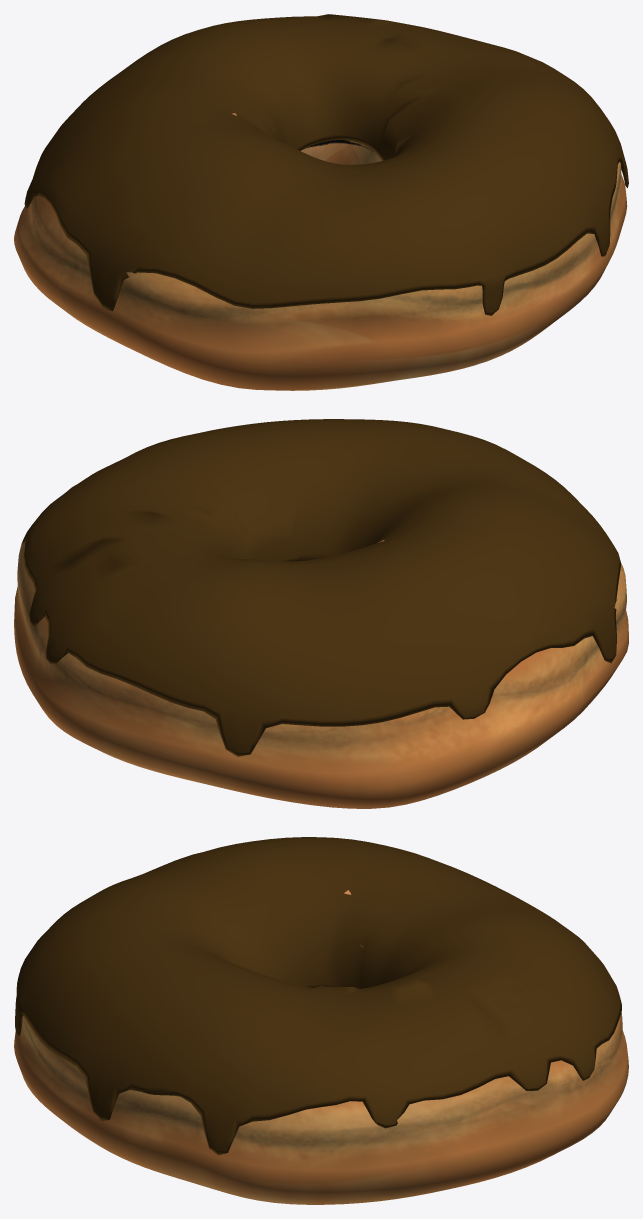
Rendered from chocolate_donut.glb.
3 views of the same model, one above another, from view 1: azimuth 30°, elevation 25°; view 2: azimuth 150°, elevation 25°; view 3: azimuth 270°, elevation 25° (orthographic).
Parts seen in each view (by area): view 1: Icing_3, Donut_2; view 2: Icing_3, Donut_2; view 3: Icing_3, Donut_2.
Part boxes in pixels (x1,y1,x2,y2): Icing_3: (24,14,628,315); Donut_2: (14,113,627,390); Icing_3: (21,419,620,756); Donut_2: (14,540,628,808); Icing_3: (15,837,621,1155); Donut_2: (14,890,628,1204).
Bounding box in the file's own units: 0.1493 × 0.0545 × 0.1496.
Materials: 2 (1 with a texture image).
